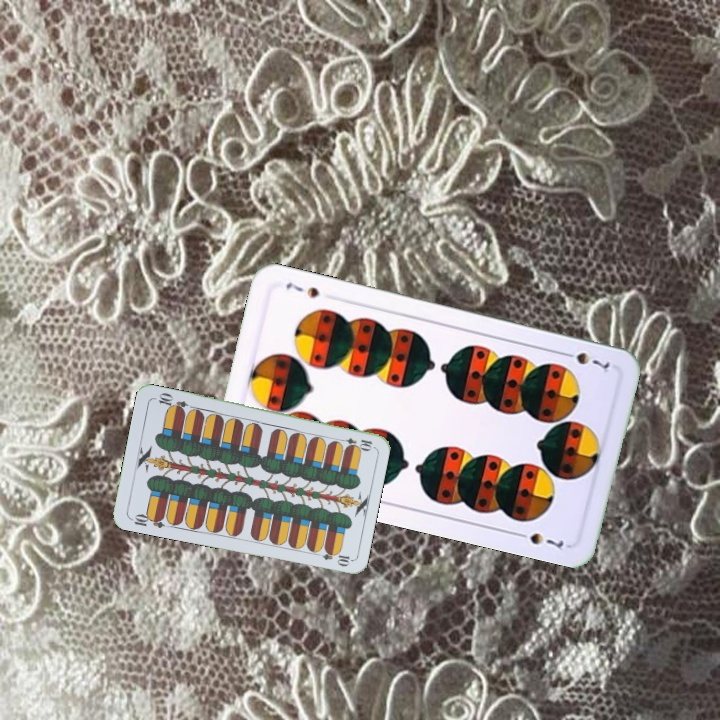E10: (126, 509, 167, 531), (334, 433, 375, 451)
S7: (557, 347, 613, 375)
